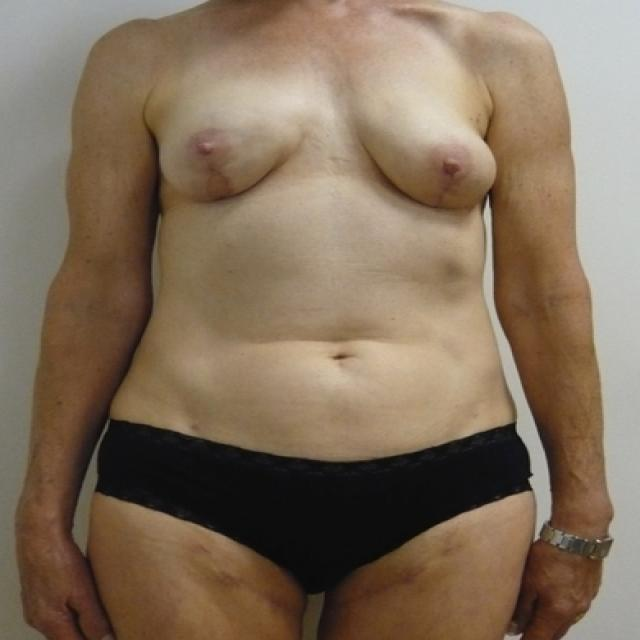Seno herido: (152, 91, 322, 212), (348, 91, 503, 218)
